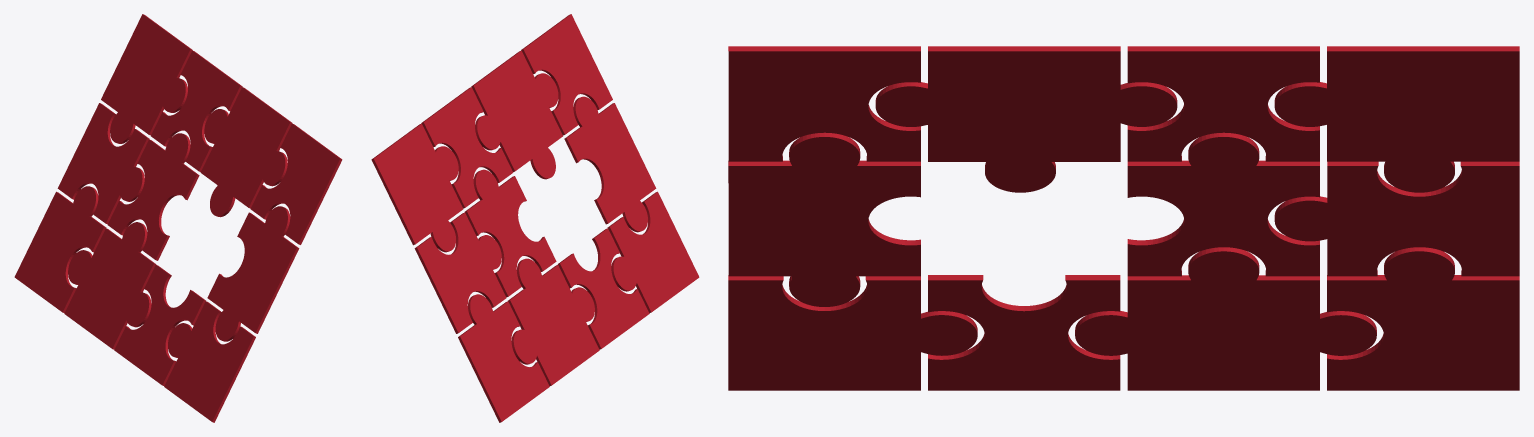
The model's file is H-puzzle-empty-blu.fbx.
The picture shows the model from 3 angles, left to right: view 1: azimuth 30°, elevation 25°; view 2: azimuth 150°, elevation 25°; view 3: azimuth 270°, elevation 25°; orthographic projection. The views are drawn at different scales.
Visible parts, largest first — view 1: Curve.078; view 2: Curve.078; view 3: Curve.078.
Part boxes in pixels (x1,y1,x2,y2): Curve.078: [14, 14, 342, 422]; Curve.078: [371, 14, 699, 422]; Curve.078: [728, 46, 1519, 390].
Bounding box in the file's own units: 114 × 196 × 301.
